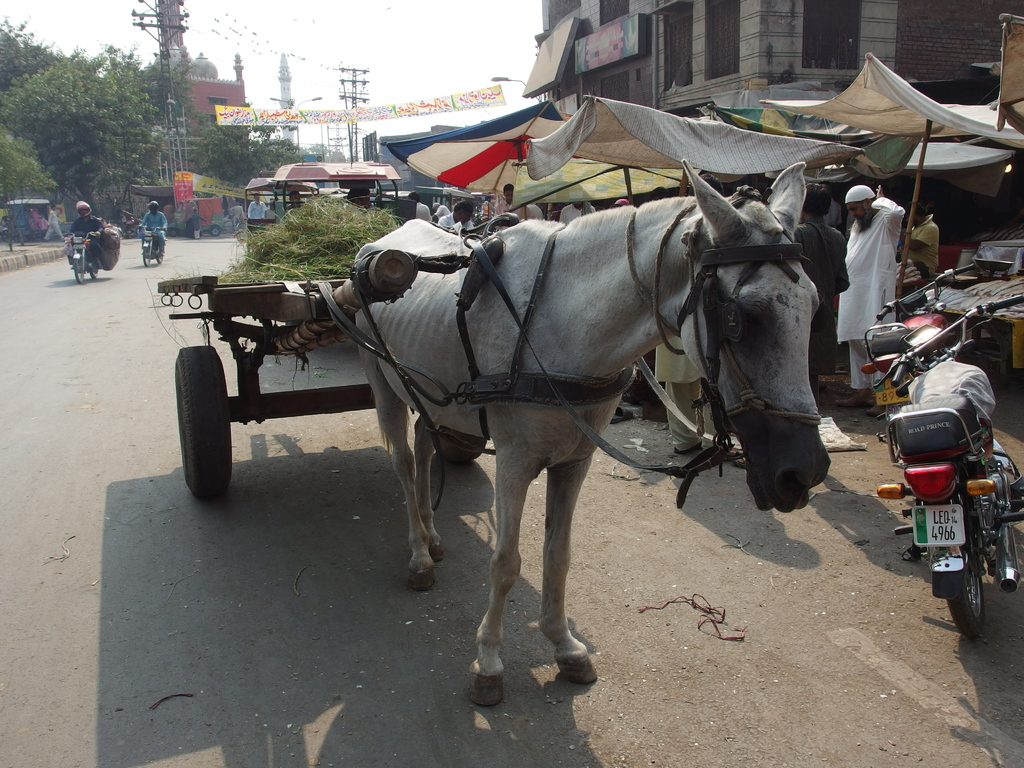horse: (351, 158, 833, 706)
